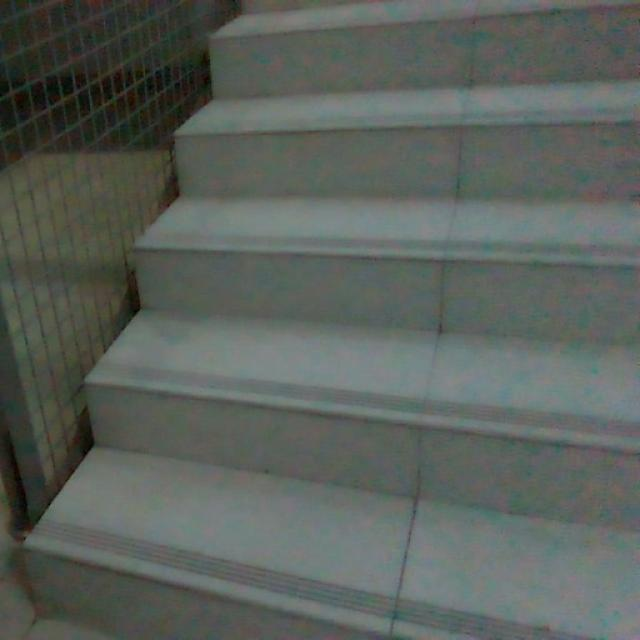Stairs: (17, 0, 638, 639)
